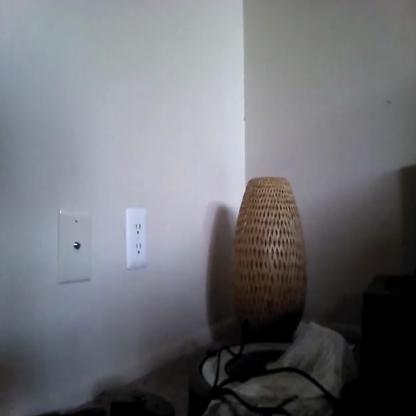OUTLET: (125, 207, 147, 267)
